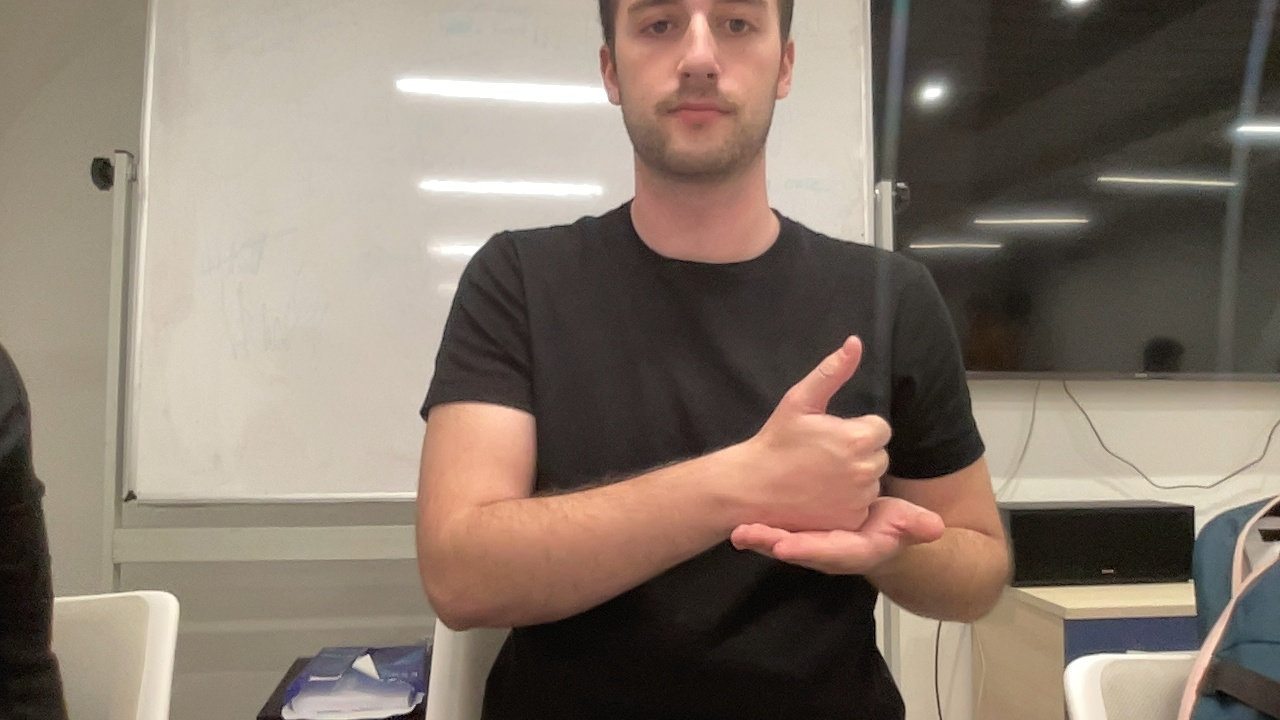Help: (726, 332, 950, 583)
